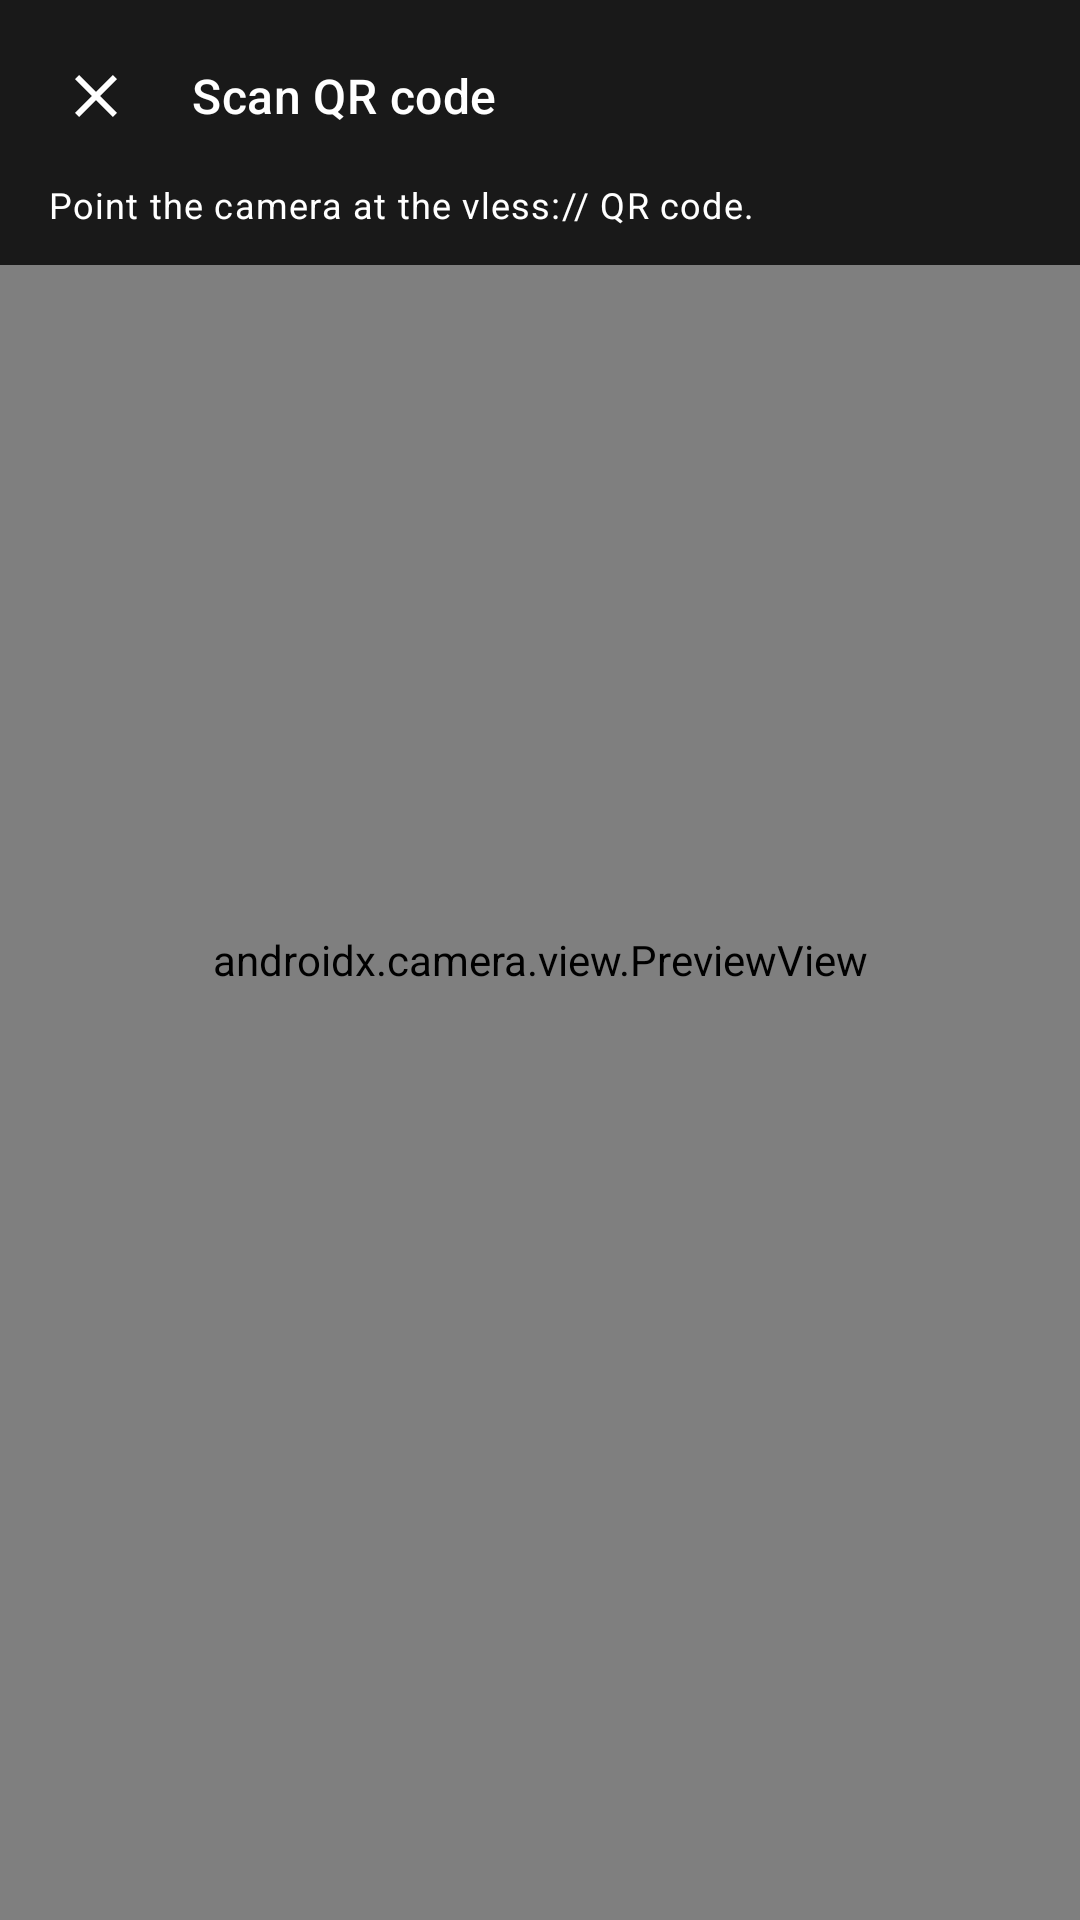

Screen size 1080*1920. Icon name, then its center in pixels as (x,y):
Close scanner: (96,96)
